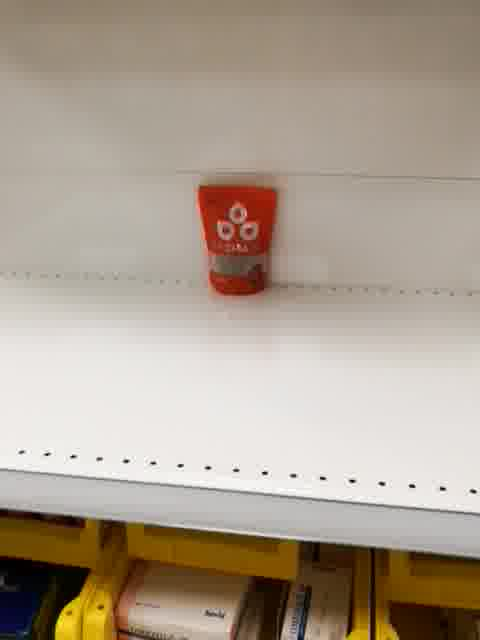whitechia: (196, 180, 279, 301)
